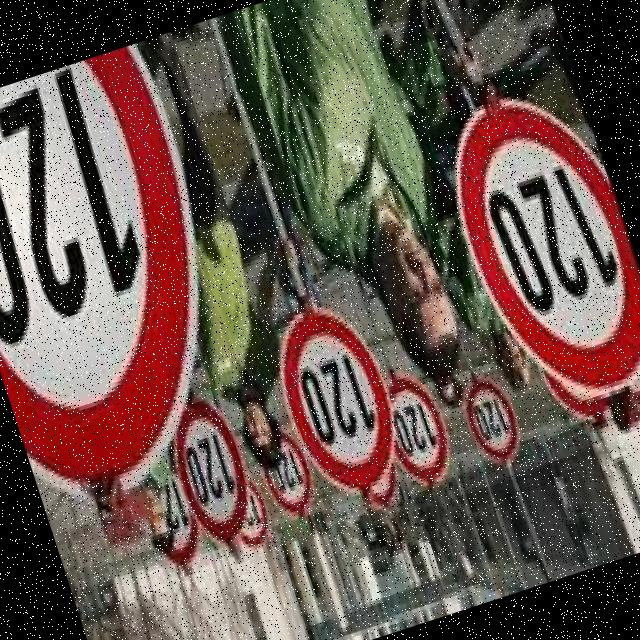speed_limit_120: (0, 42, 265, 500), (425, 71, 640, 424), (258, 290, 411, 497), (158, 391, 268, 555), (372, 364, 466, 502), (451, 371, 532, 482), (258, 436, 320, 520)
